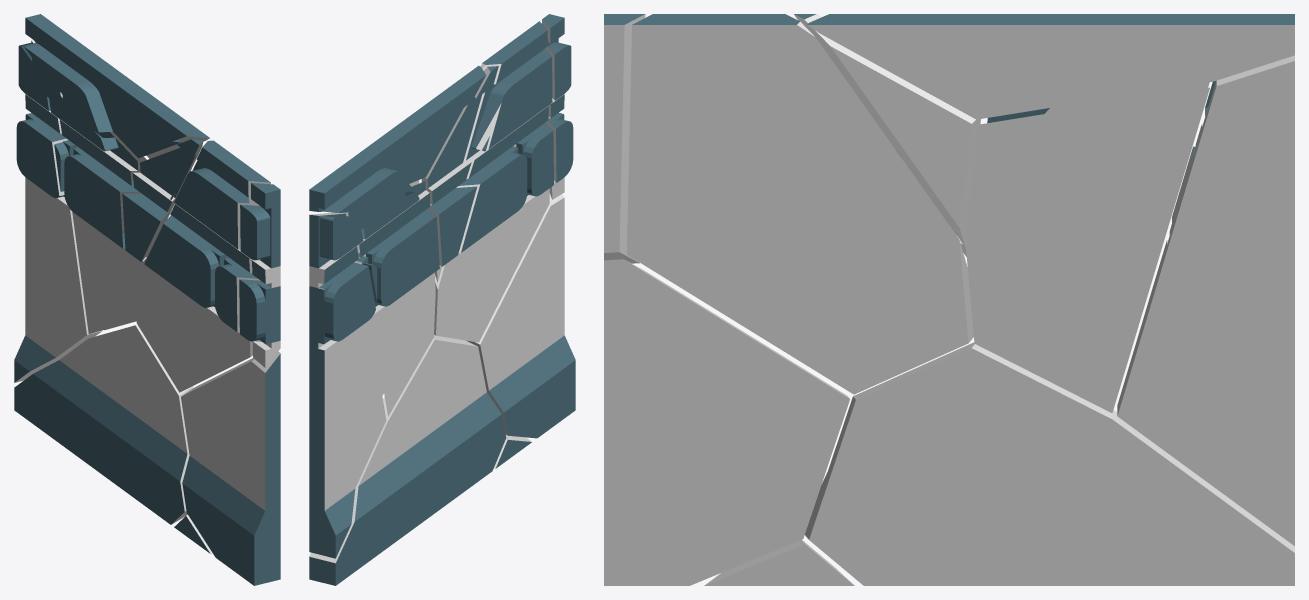
Rendered from Broken alien wall.fbx.
3 renders of one model, left to right at view 1: azimuth 30°, elevation 25°; view 2: azimuth 150°, elevation 25°; view 3: azimuth 270°, elevation 25°, orthographic. The views are drawn at different scales.
Visible parts, largest first — view 1: Cube_cell.028, Cube_cell.070, Cube_cell.038, Cube_cell.047, Cube_cell.059, Cube_cell.079, Cube_cell.068, Cube_cell.048, Cube_cell.080, Cube_cell.077, Cube_cell.060, Cube_cell.062 (+1 smaller); view 2: Cube_cell.070, Cube_cell.028, Cube_cell.047, Cube_cell.038, Cube_cell.059, Cube_cell.079, Cube_cell.068, Cube_cell.048, Cube_cell.080, Cube_cell.060, Cube_cell.077, Cube_cell.074; view 3: Cube_cell.070, Cube_cell.028, Cube_cell.038, Cube_cell.047, Cube_cell.062, Cube_cell.079, Cube_cell.068, Cube_cell.048, Cube_cell.074, Cube_cell.060.
Part boxes in pixels (x1,y1,x2,y2): Cube_cell.028: [14, 325, 193, 524]; Cube_cell.070: [136, 140, 270, 392]; Cube_cell.038: [181, 351, 280, 585]; Cube_cell.047: [14, 40, 101, 382]; Cube_cell.059: [54, 94, 138, 333]; Cube_cell.079: [25, 14, 209, 158]; Cube_cell.068: [122, 139, 203, 271]; Cube_cell.048: [239, 183, 280, 367]; Cube_cell.080: [24, 42, 112, 132]; Cube_cell.077: [240, 204, 270, 260]; Cube_cell.060: [47, 82, 118, 151]; Cube_cell.062: [104, 131, 147, 330]; Cube_cell.070: [434, 21, 553, 342]; Cube_cell.028: [309, 335, 506, 585]; Cube_cell.047: [309, 212, 386, 558]; Cube_cell.038: [466, 193, 575, 438]; Cube_cell.059: [348, 181, 439, 416]; Cube_cell.079: [309, 65, 486, 211]; Cube_cell.068: [421, 66, 498, 282]; Cube_cell.048: [542, 14, 573, 199]; Cube_cell.080: [324, 168, 412, 212]; Cube_cell.060: [347, 191, 419, 239]; Cube_cell.077: [547, 42, 571, 100]; Cube_cell.074: [493, 435, 531, 468]; Cube_cell.070: [627, 14, 973, 394]; Cube_cell.028: [805, 342, 1294, 585]; Cube_cell.038: [604, 259, 849, 585]; Cube_cell.047: [1117, 55, 1294, 545]; Cube_cell.062: [965, 87, 1209, 412]; Cube_cell.079: [807, 14, 1294, 119]; Cube_cell.068: [794, 14, 981, 256]; Cube_cell.048: [604, 14, 645, 263]; Cube_cell.074: [704, 539, 854, 585]; Cube_cell.060: [1044, 82, 1209, 113].
Bounding box in the file's own units: 77.06 × 1080 × 1205.
